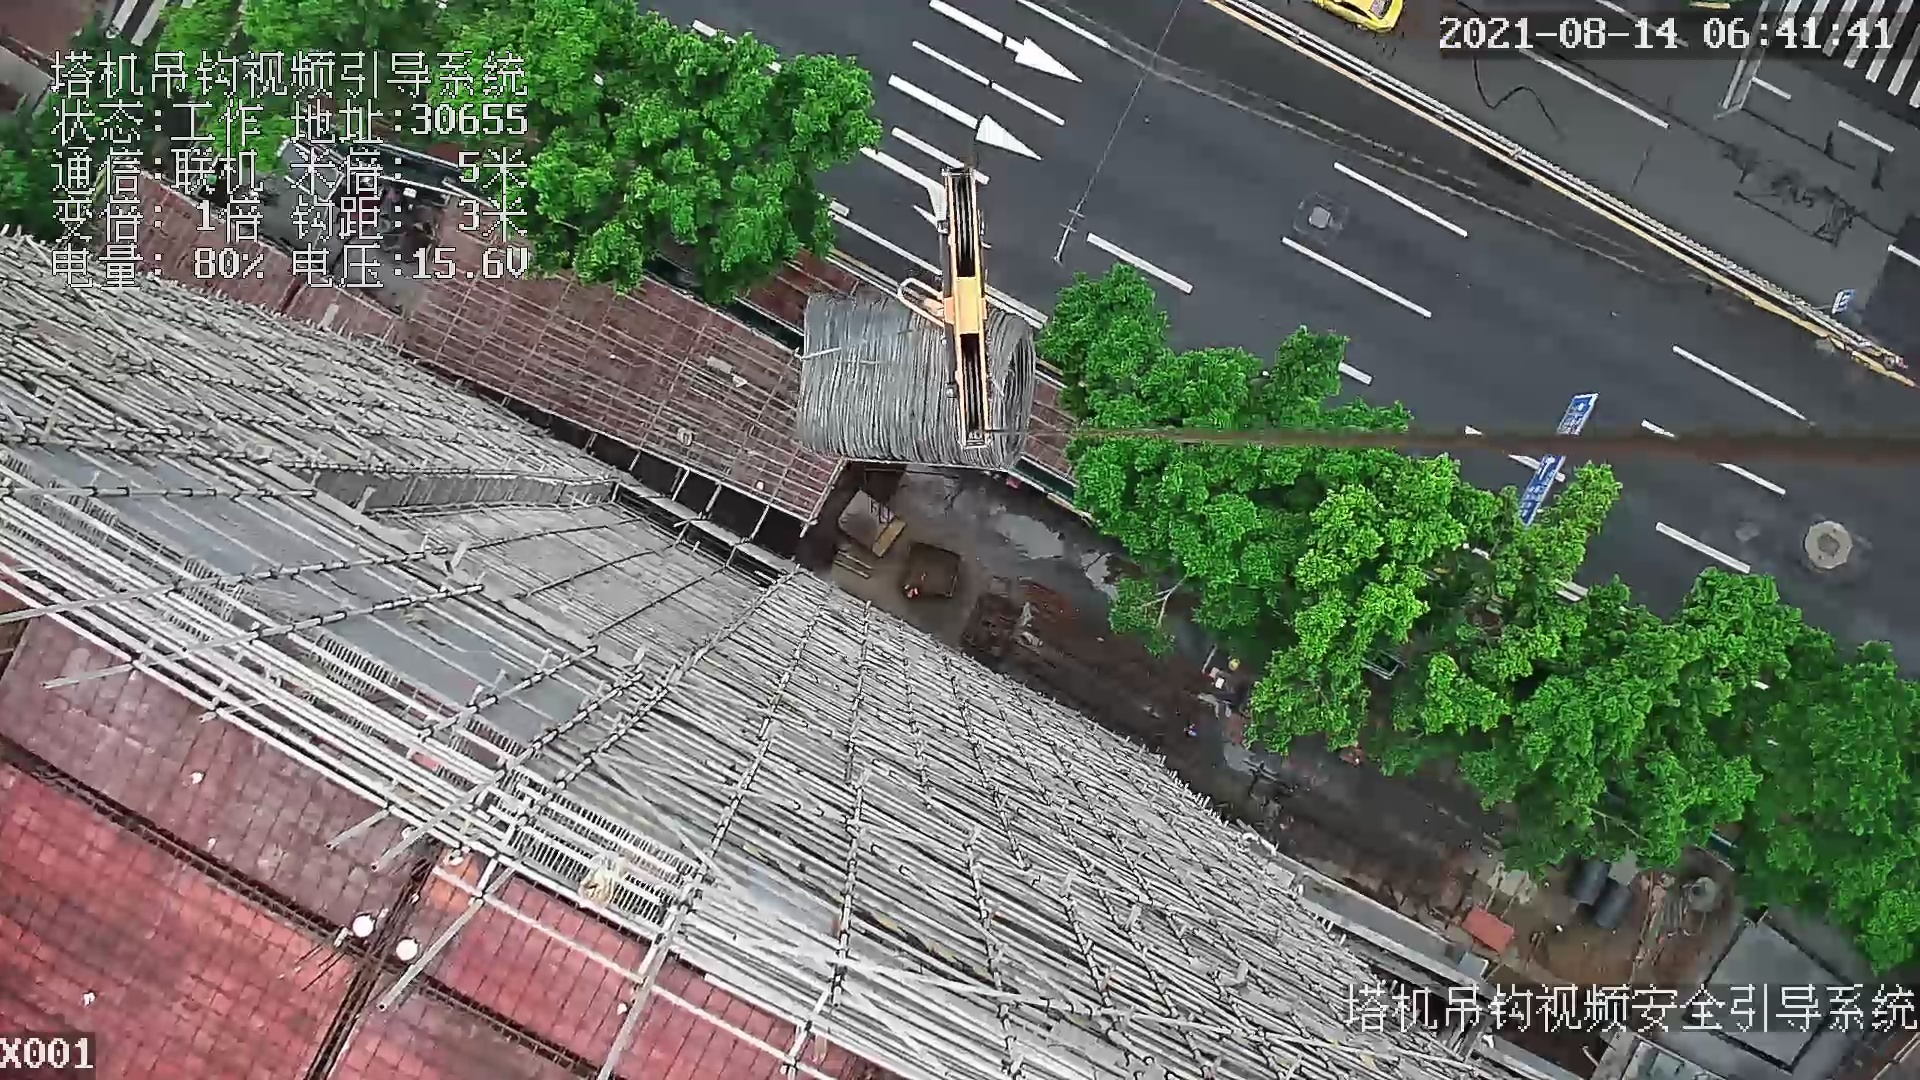hook: (894, 163, 995, 440)
person: (903, 583, 919, 600)
